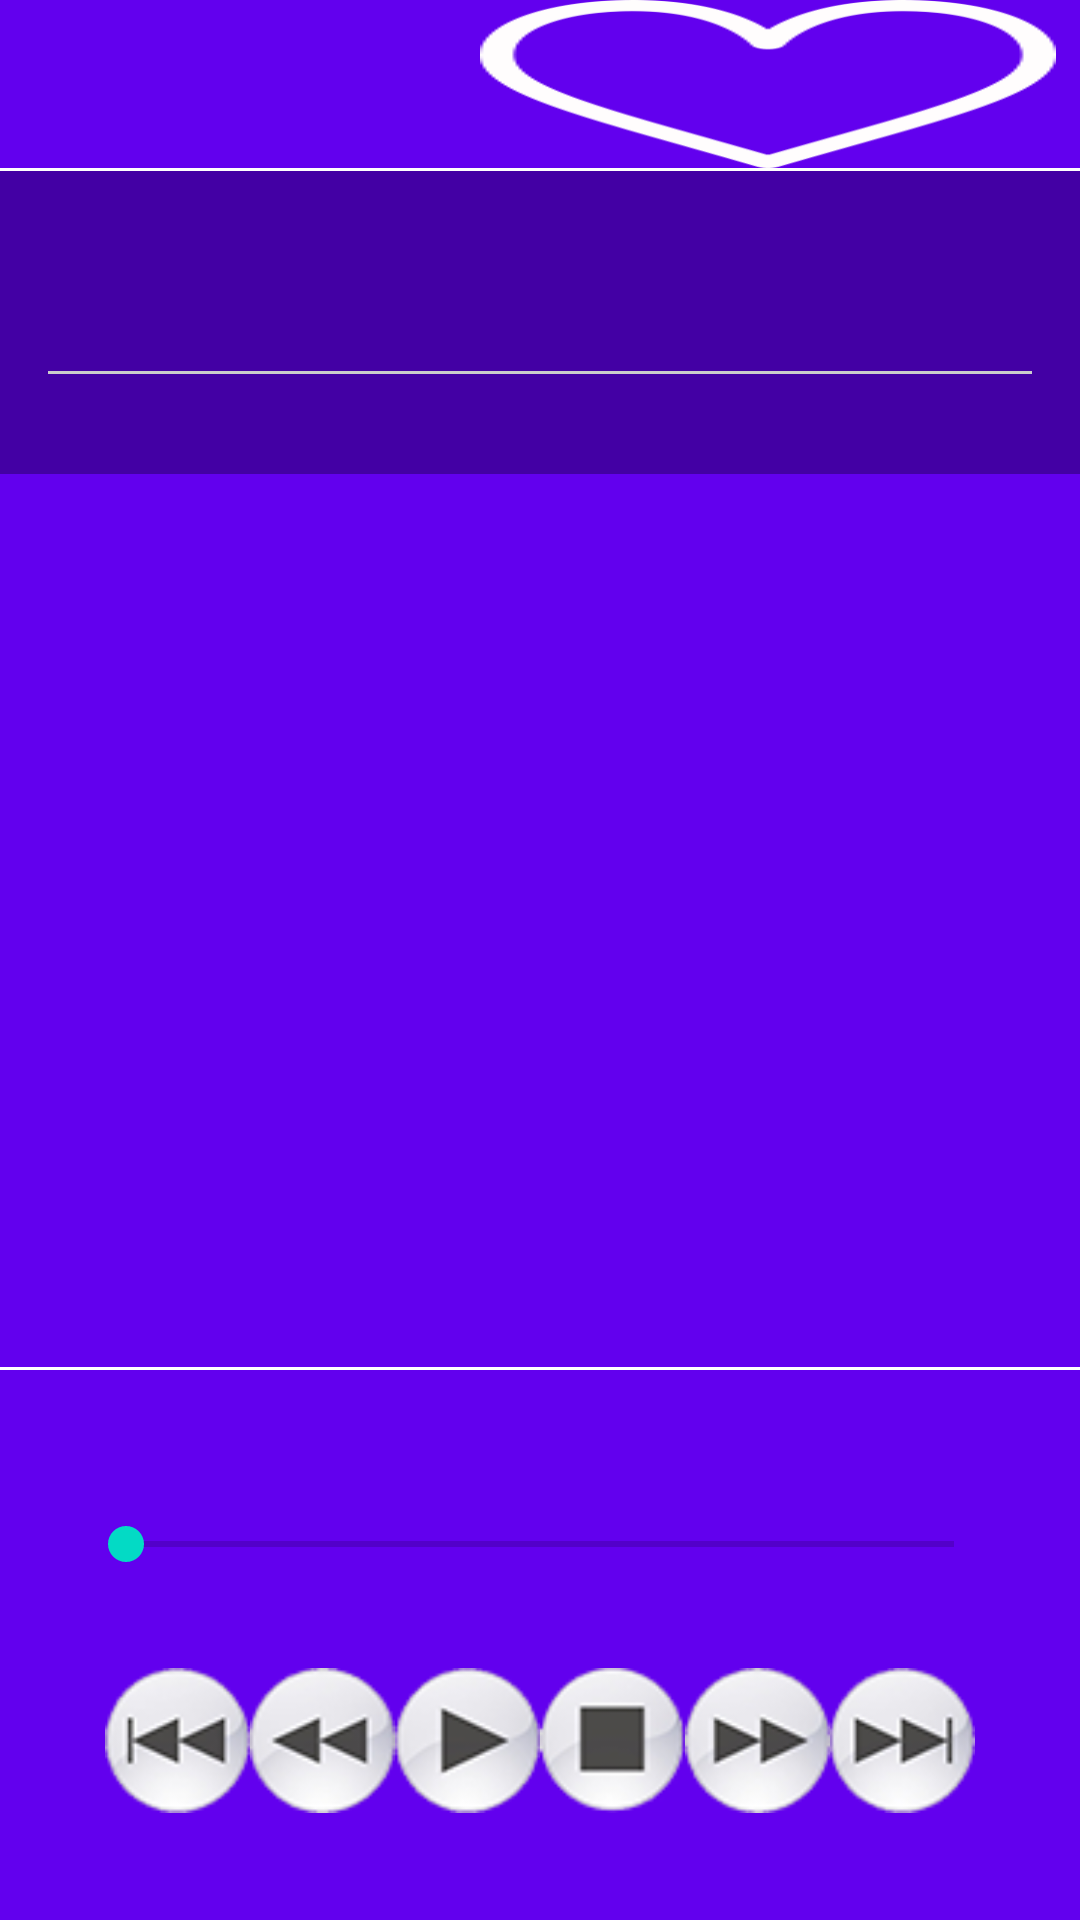

Screen size 1080x1920. Icon name, then its box in pixels as (x1, y1, x2, y2):
Backward: (250, 1668, 395, 1813)
Forward: (685, 1668, 830, 1813)
Next: (830, 1668, 975, 1813)
play: (395, 1668, 540, 1813)
Previous: (105, 1668, 250, 1813)
stop: (540, 1668, 685, 1811)
